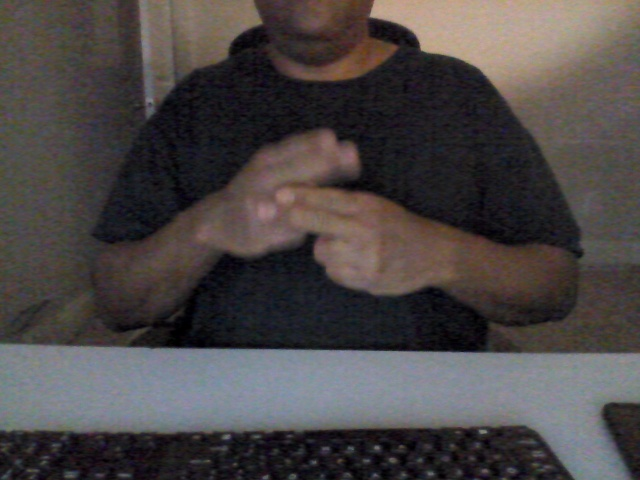name: (209, 127, 445, 297)
